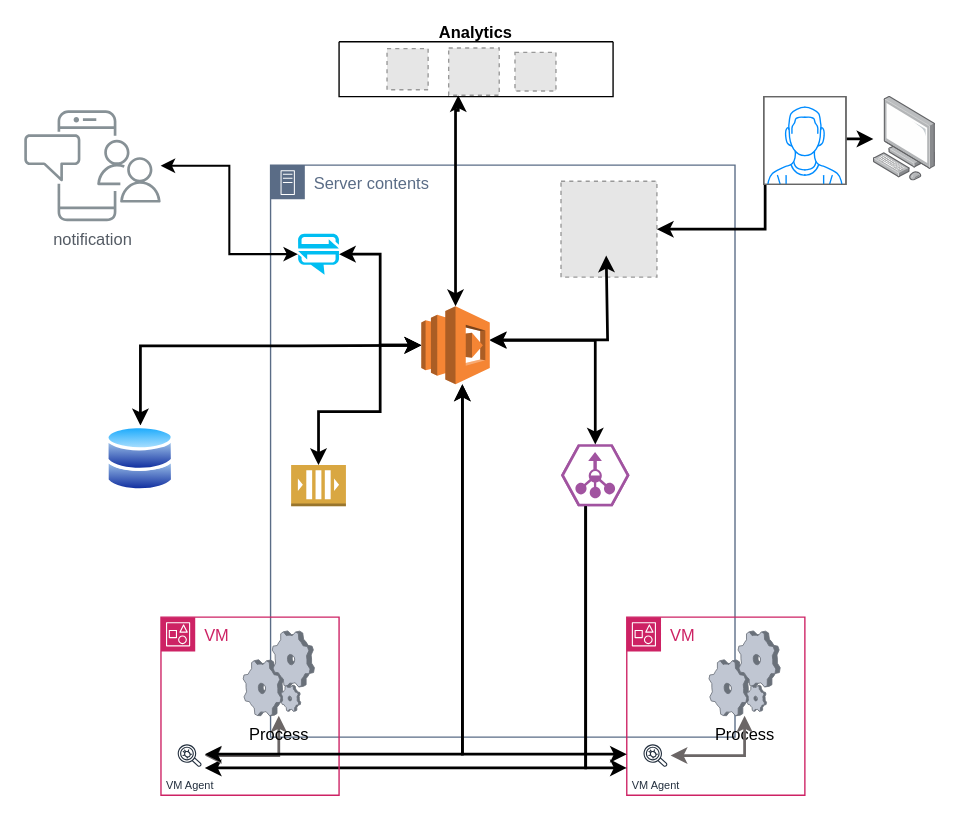
The diagram is 959 pixels wide and 819 high, and some of its shapes have lost their labels. Grey dashed boxes stand in for pictures. Each missing label, with the centre of its shape:
"Data Collector" belongs at point (595, 474).
"DevOps Server" belongs at point (455, 344).
"Notification Hub" belongs at point (317, 253).
"Queues" belongs at point (318, 485).
